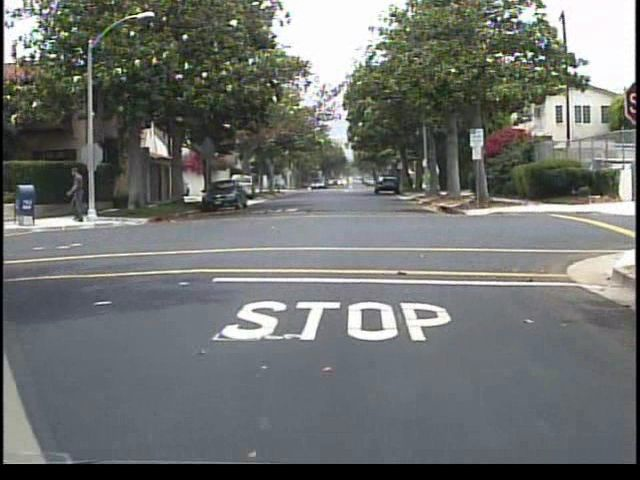person: (66, 161, 97, 226)
